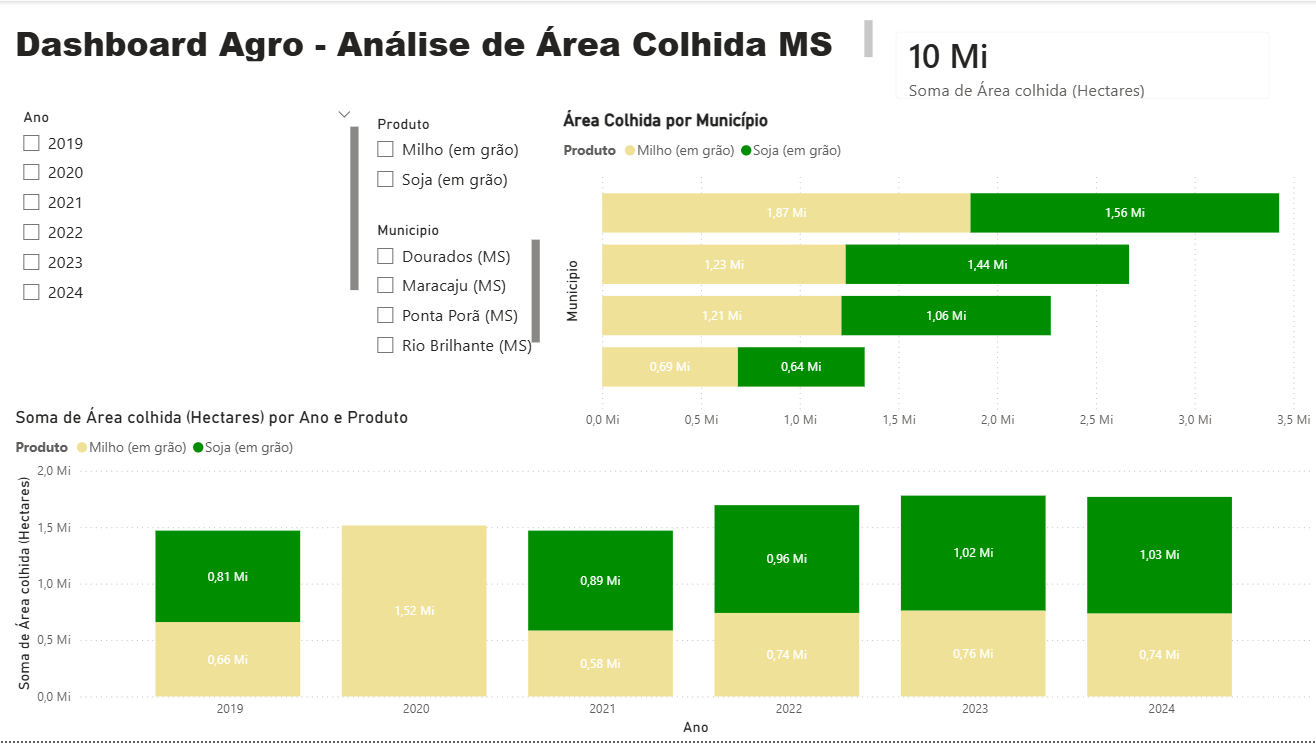

The page's visual inventory and layout, read from the dashboard file:
{"tool":"powerbi","page":{"name":"Quantidade Produzida","canvas":[1280,720],"ordinal":1},"visuals":[{"type":"slicer","fields":{"Values":["Área colhida (Hectares).Ano"]},"box":[9.7,99.2,344.3,199.4],"z":0},{"type":"slicer","fields":{"Values":["Área colhida (Hectares).Municipio"]},"box":[354,209.1,176,140.1],"z":1000},{"type":"slicer","fields":{"Values":["Área colhida (Hectares).Produto"]},"box":[354,106,176,93.4],"z":2000},{"type":"cardVisual","fields":{"Data":["Sum(Área colhida (Hectares).Área colhida (Hectares))"]},"box":[854,12.6,398.8,100.2],"z":3000},{"type":"columnChart","fields":{"Series":["Área colhida (Hectares).Produto"],"Category":["Área colhida (Hectares).Ano"],"Y":["Sum(Área colhida (Hectares).Área colhida (Hectares))"]},"box":[9.7,394.9,1270.3,324.9],"z":4000},{"type":"textbox","box":[9.7,13.6,844.3,49.6],"z":5000},{"type":"barChart","title":"Área Colhida por Município","fields":{"Category":["Área colhida (Hectares).Municipio"],"Y":["Sum(Área colhida (Hectares).Área colhida (Hectares))"],"Series":["Área colhida (Hectares).Produto"]},"box":[542.7,106,737.3,320],"z":6000}]}

Visuals, with their boxes in screenshot pixels (x1, y1, x2, y2), scaled from the page's 1280x720 canvas onto the 1316x744 screenshot:
slicer - Área colhida (Hectares).Ano: bbox=(10, 103, 364, 309)
slicer - Área colhida (Hectares).Municipio: bbox=(364, 216, 545, 361)
slicer - Área colhida (Hectares).Produto: bbox=(364, 110, 545, 206)
cardVisual - Sum(Área colhida (Hectares).Área colhida (Hectares)): bbox=(878, 13, 1288, 117)
columnChart - Área colhida (Hectares).Produto x Área colhida (Hectares).Ano: bbox=(10, 408, 1315, 743)
textbox: bbox=(10, 14, 878, 65)
"Área Colhida por Município" barChart: bbox=(558, 110, 1315, 440)
